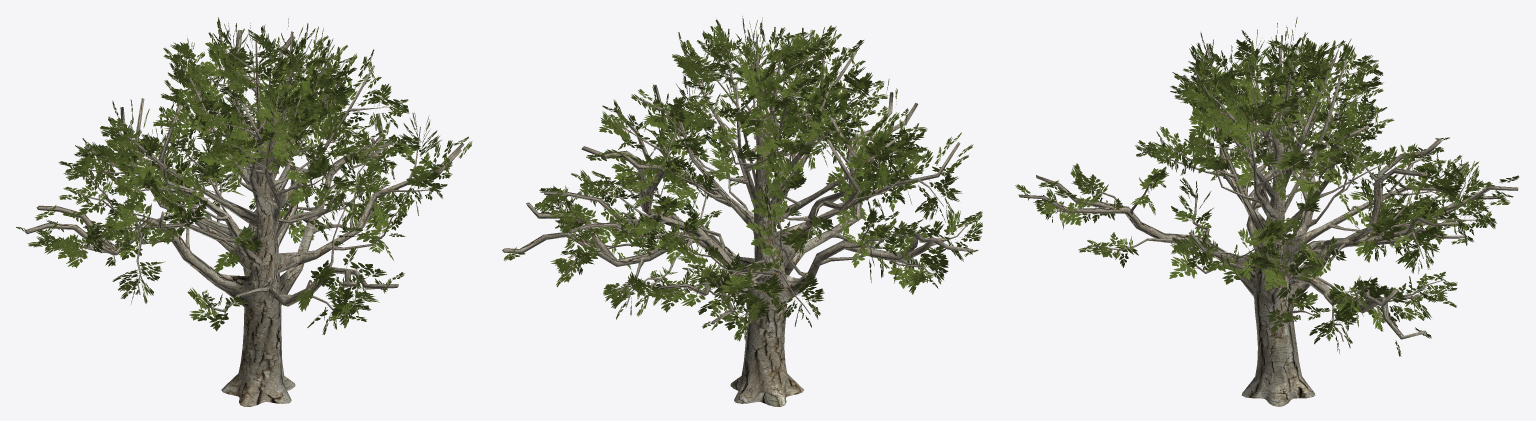
File: tree_large.fbx
3 views of the same model, side by side, from view 1: azimuth 30°, elevation 25°; view 2: azimuth 150°, elevation 25°; view 3: azimuth 270°, elevation 25° (orthographic). The views are drawn at different scales.
Visible parts, largest first — view 1: branch01_1, bark10_0; view 2: branch01_1, bark10_0; view 3: branch01_1, bark10_0.
Part boxes in pixels (x1,y1,x2,y2): branch01_1: (16, 17, 472, 334); bark10_0: (25, 30, 464, 406); branch01_1: (504, 16, 982, 341); bark10_0: (502, 30, 973, 406); branch01_1: (1015, 17, 1519, 356); bark10_0: (1018, 35, 1518, 406).
Size of the model in its own units: 2451 by 1976 by 2555.
